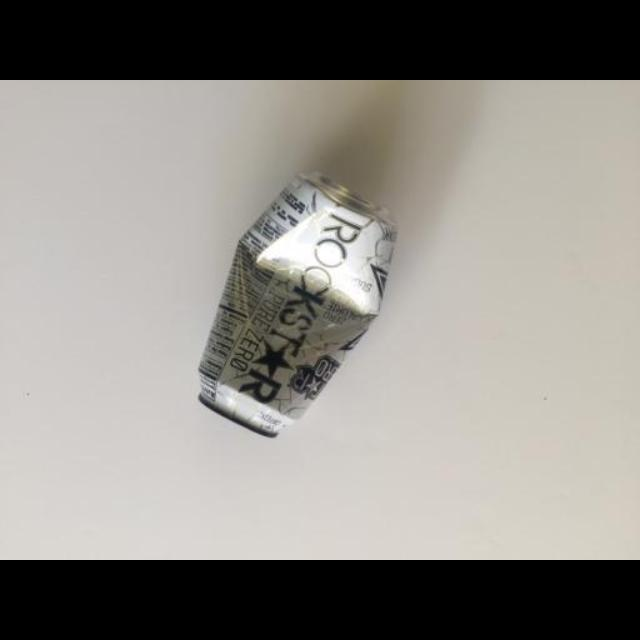lata: (199, 172, 395, 438)
